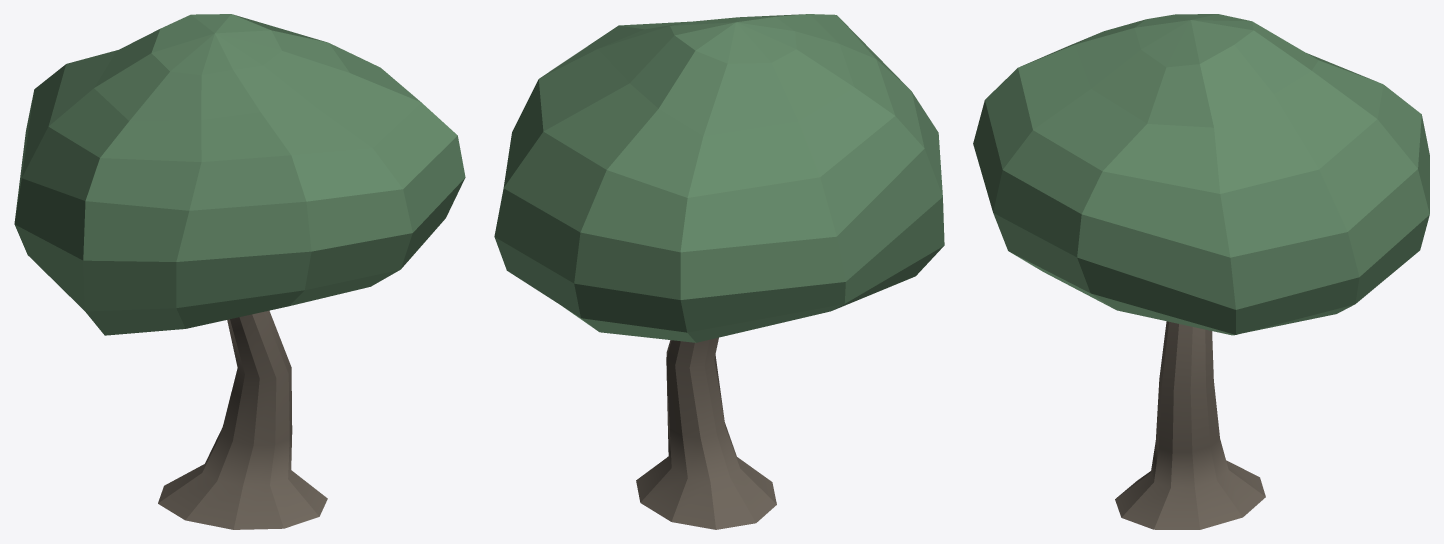
File: SmallTree.fbx
The picture shows the model from 3 angles, left to right: view 1: azimuth 30°, elevation 25°; view 2: azimuth 150°, elevation 25°; view 3: azimuth 270°, elevation 25°; orthographic projection. The views are drawn at different scales.
Parts seen in each view (by area): view 1: Tree_Riley_004; view 2: Tree_Riley_004; view 3: Tree_Riley_004.
Boxes of the visible parts, left/top/right/bottom form: Tree_Riley_004: left=14, top=14, right=465, bottom=529; Tree_Riley_004: left=494, top=14, right=944, bottom=529; Tree_Riley_004: left=973, top=14, right=1429, bottom=529.
Size of what is drawn, in the model's own units: 452 by 550 by 490.
